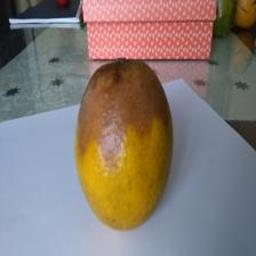Orange Rotten: (62, 43, 192, 230)
